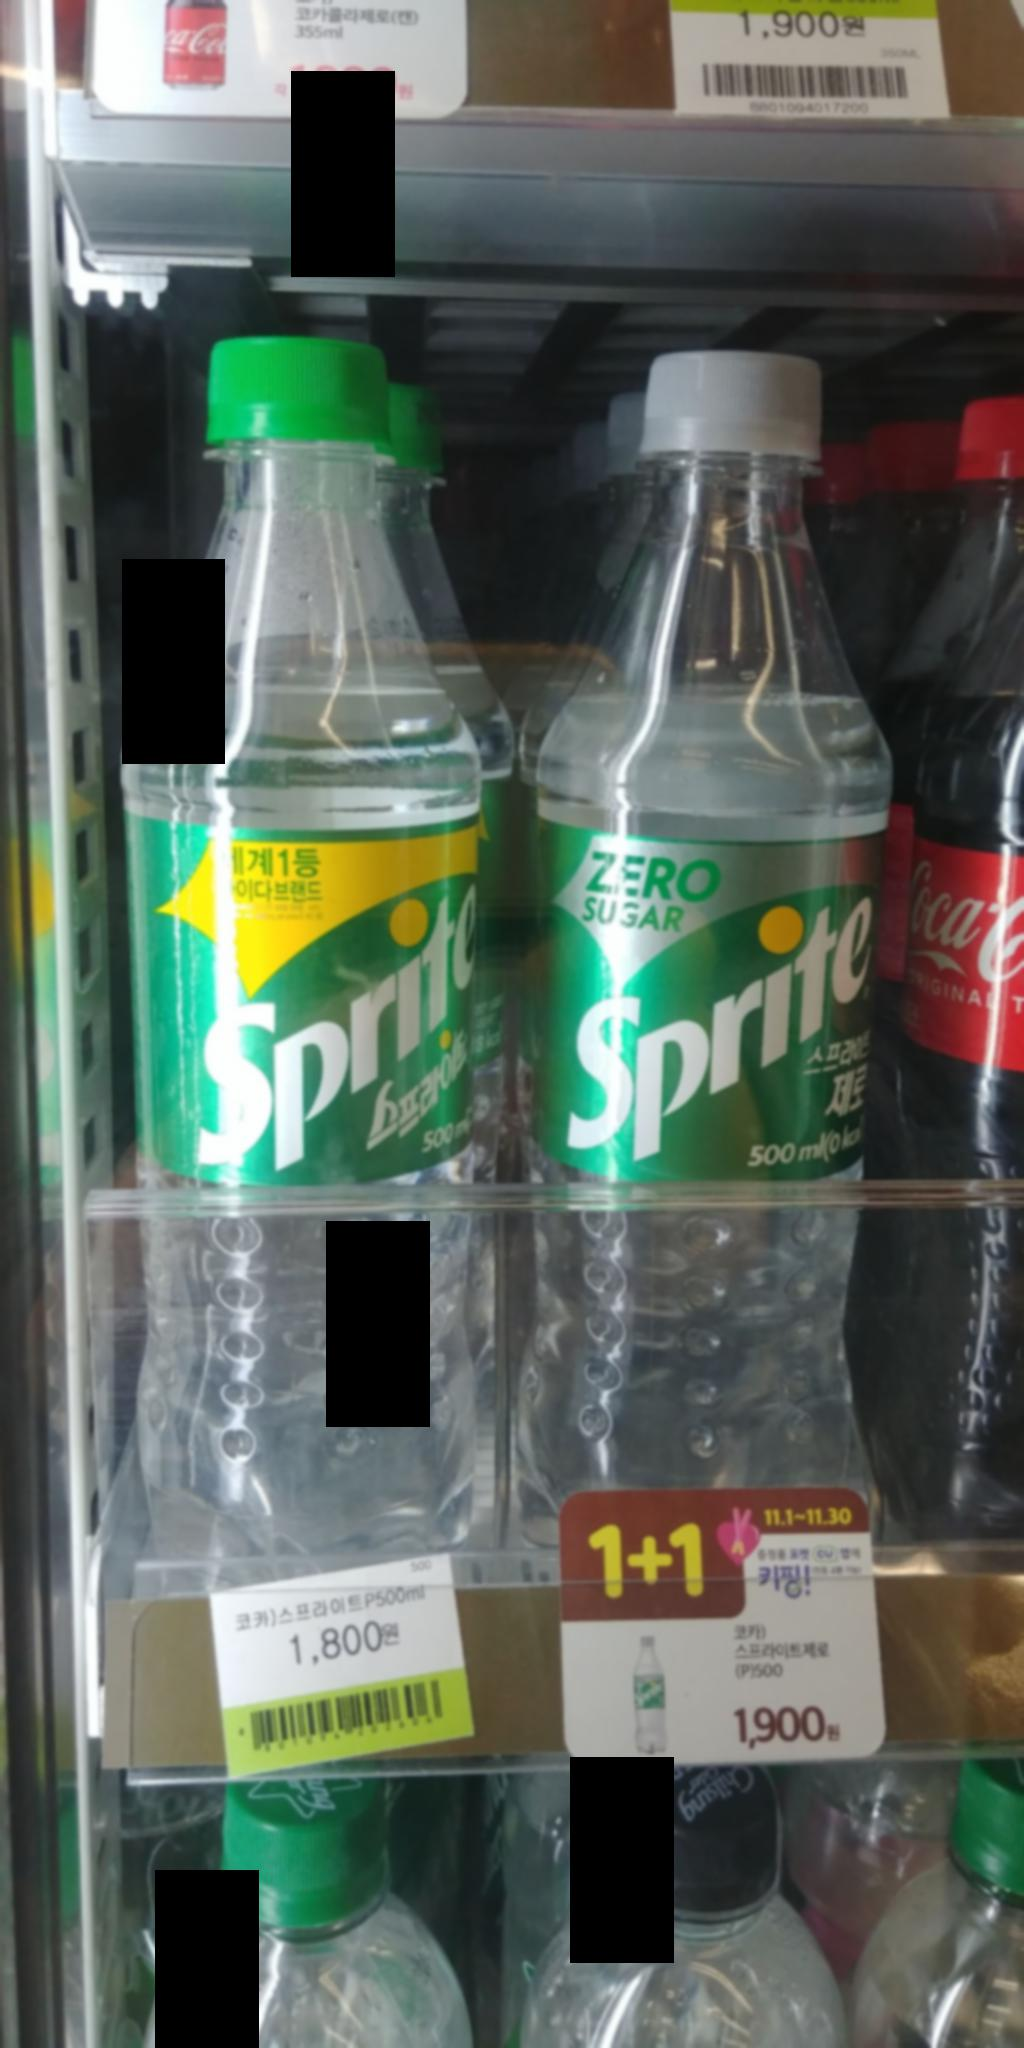sprite_zero: (549, 350, 914, 1498)
